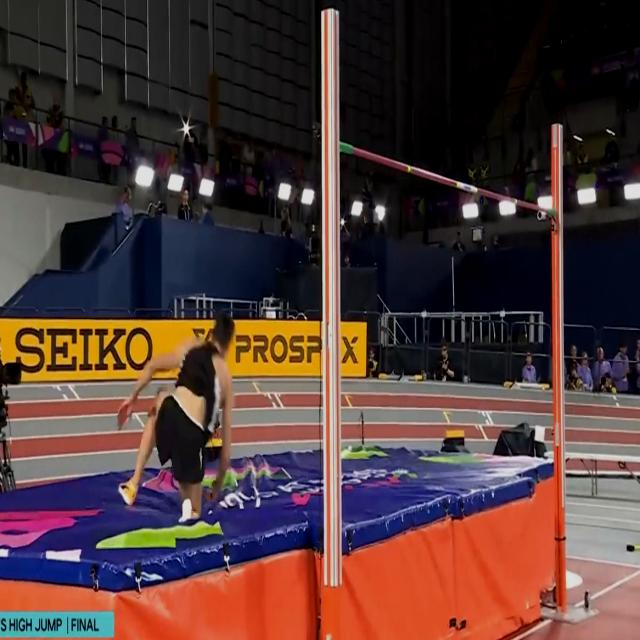land: (117, 315, 234, 522)
